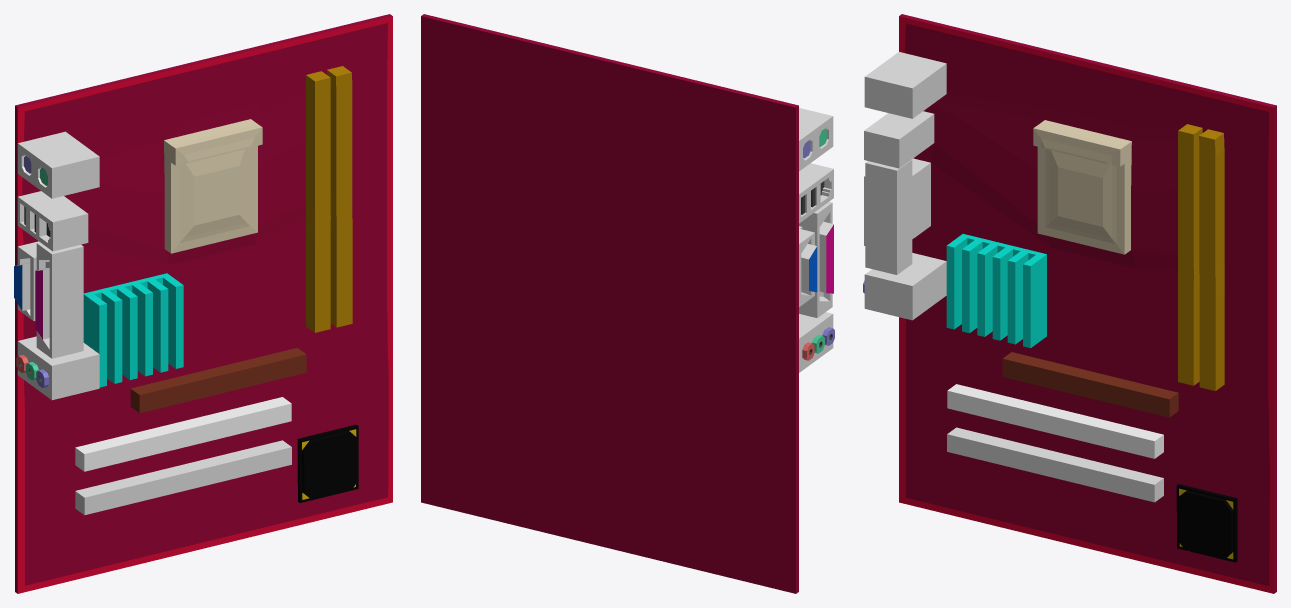
The model's file is mobo_socket-949_1-amd.fbx.
3 views of the same model, side by side, from view 1: azimuth 30°, elevation 25°; view 2: azimuth 150°, elevation 25°; view 3: azimuth 330°, elevation 25° (orthographic).
Visible parts, largest first — view 1: Plane, Plane.001; view 2: Plane; view 3: Plane, Plane.001.
Part boxes in pixels (x1,y1,x2,y2): Plane: (14,14,392,593); Plane.001: (83,273,183,387); Plane: (421,14,834,593); Plane: (863,14,1276,593); Plane.001: (946,234,1046,348).
Size of the model in its own units: 160 by 195 by 27.57.
